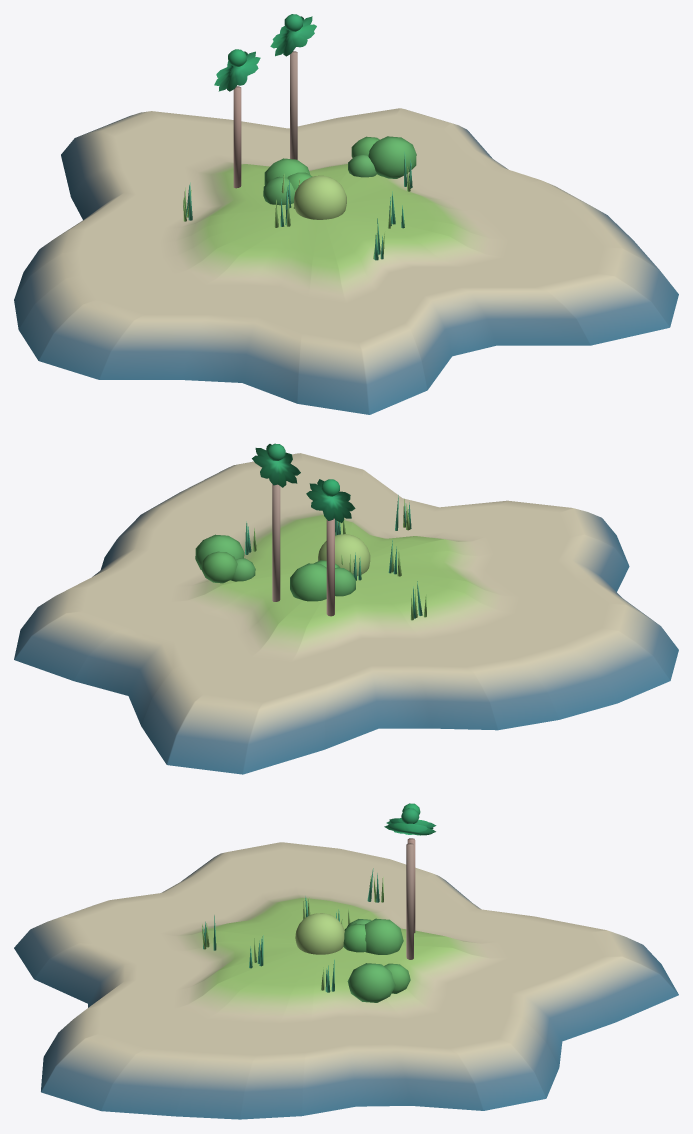
File: terrain_island_10.glb
The picture shows the model from 3 angles, top to bottom: view 1: azimuth 30°, elevation 25°; view 2: azimuth 150°, elevation 25°; view 3: azimuth 270°, elevation 25°; orthographic projection. The views are drawn at different scales.
Parts seen in each view (by area): view 1: island_terrain, hill0, veg_shrub0_ball1, veg_tree0_palm_trunk, veg_tree1_palm_trunk, veg_shrub1_ball2, veg_shrub1_ball0; view 2: island_terrain, hill0, veg_shrub1_ball0, veg_tree1_palm_trunk, veg_shrub0_ball0, veg_shrub0_ball1, veg_tree0_palm_trunk, veg_shrub1_ball2; view 3: island_terrain, hill0, veg_shrub0_ball1, veg_shrub1_ball0, veg_tree1_palm_trunk, veg_shrub1_ball1.
Part boxes in pixels (box(x1,y1,x2,y2)): island_terrain: box(14, 108, 678, 414); hill0: box(294, 175, 346, 219); veg_shrub0_ball1: box(368, 136, 416, 178); veg_tree0_palm_trunk: box(233, 86, 241, 188); veg_tree1_palm_trunk: box(290, 51, 297, 159); veg_shrub1_ball2: box(263, 176, 294, 205); veg_shrub1_ball0: box(264, 158, 310, 184); island_terrain: box(14, 453, 678, 774); hill0: box(318, 534, 370, 575); veg_shrub1_ball0: box(290, 563, 326, 601); veg_tree1_palm_trunk: box(272, 484, 280, 601); veg_shrub0_ball0: box(201, 551, 237, 583); veg_shrub0_ball1: box(195, 534, 244, 569); veg_tree0_palm_trunk: box(326, 518, 334, 616); veg_shrub1_ball2: box(335, 567, 355, 596); island_terrain: box(14, 842, 678, 1119); hill0: box(295, 913, 344, 954); veg_shrub0_ball1: box(347, 963, 395, 1002); veg_shrub1_ball0: box(365, 918, 403, 954); veg_tree1_palm_trunk: box(406, 843, 413, 959); veg_shrub1_ball1: box(343, 923, 366, 952).
Size of the model in its own units: 159 by 57.18 by 172.
